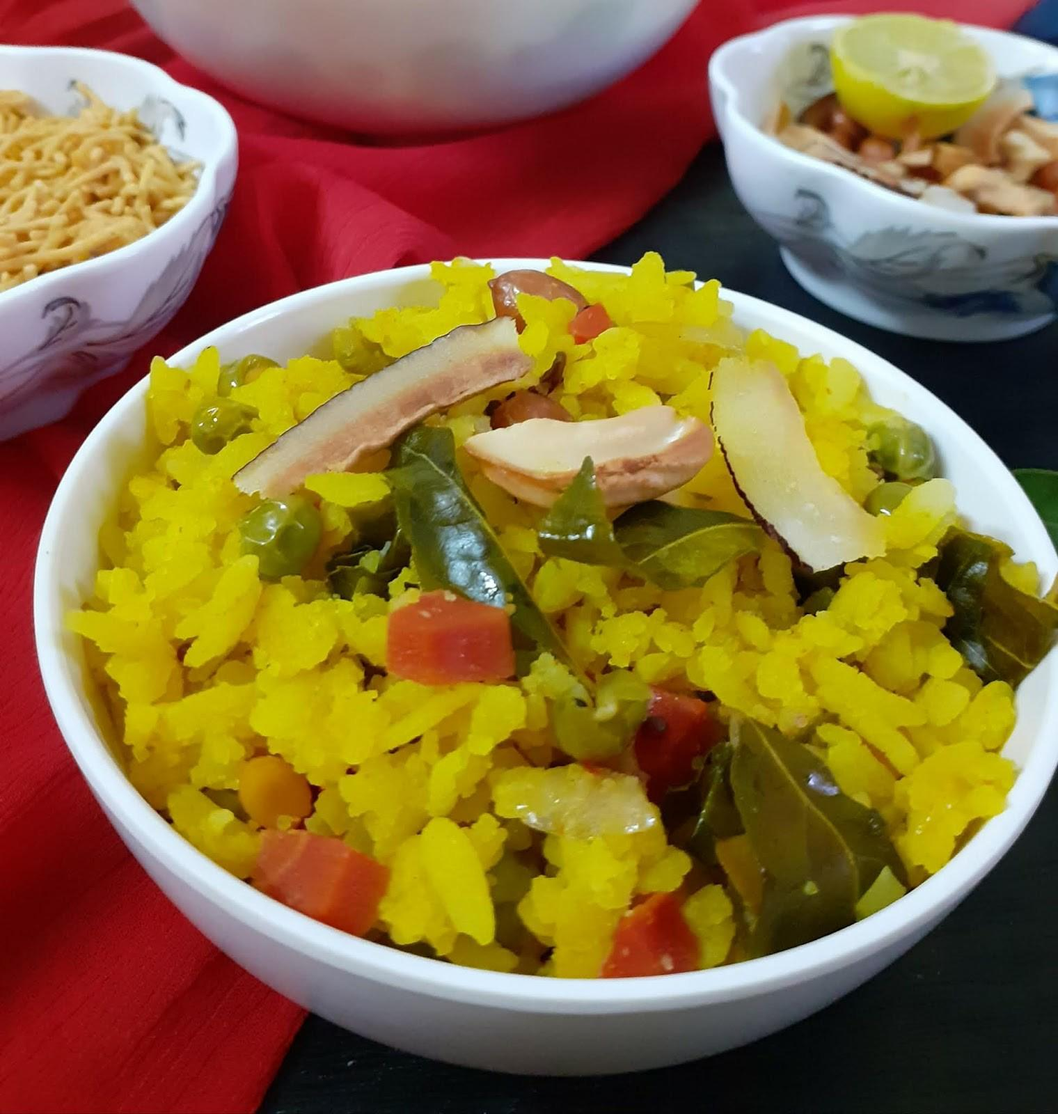Poha: (81, 265, 1027, 985)
